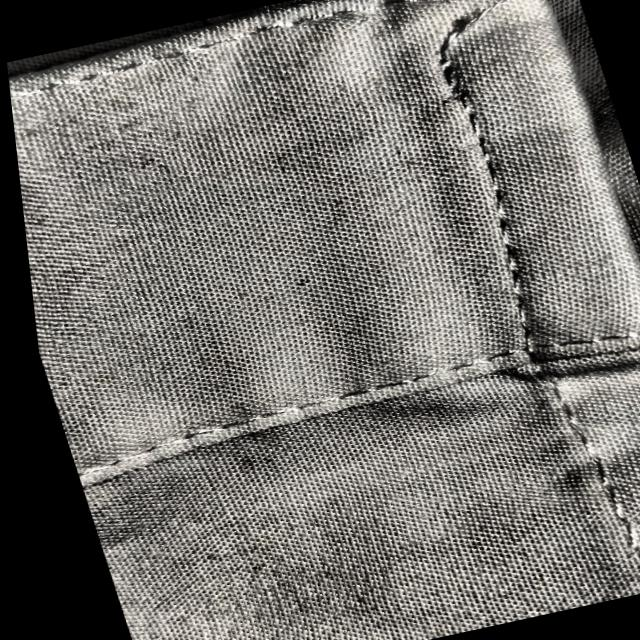Stitch: (408, 0, 593, 71)
